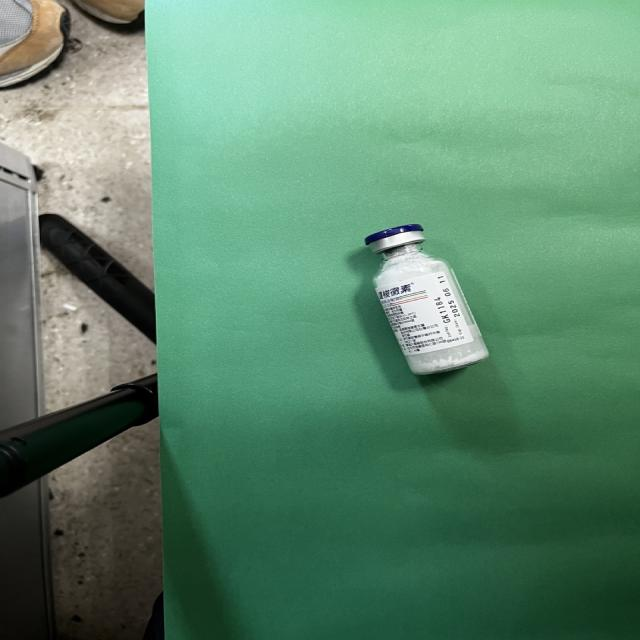Vials: (365, 224, 489, 376)
